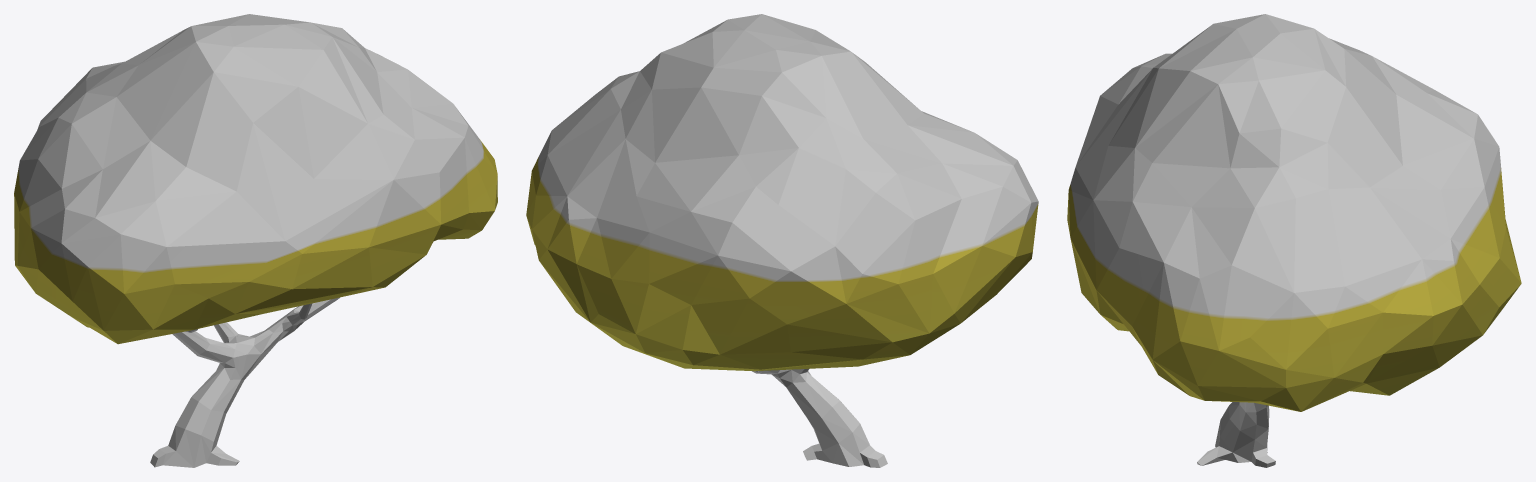
File: Tree_05.fbx
3 renders of one model, left to right at view 1: azimuth 30°, elevation 25°; view 2: azimuth 150°, elevation 25°; view 3: azimuth 270°, elevation 25°, orthographic. The views are drawn at different scales.
Parts seen in each view (by area): view 1: Tree_05; view 2: Tree_05; view 3: Tree_05.
Part boxes in pixels (x1=…): Tree_05: x1=14, y1=14, x2=497, y2=467; Tree_05: x1=526, y1=14, x2=1038, y2=467; Tree_05: x1=1067, y1=14, x2=1521, y2=467.
Bounding box in the file's own units: 6.5 × 5.52 × 5.09.
